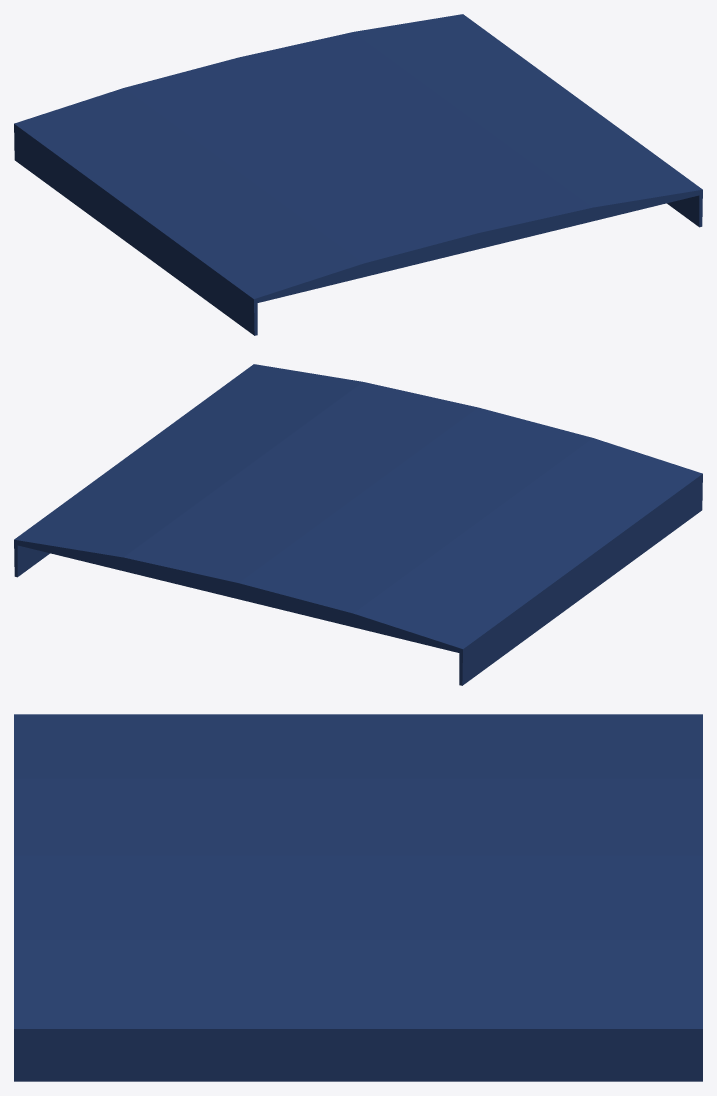
File: Itr_Bed_Double_Blanket_17.FBX
3 renders of one model, top to bottom at view 1: azimuth 30°, elevation 25°; view 2: azimuth 150°, elevation 25°; view 3: azimuth 270°, elevation 25°, orthographic. The views are drawn at different scales.
Parts seen in each view (by area): view 1: Itr_Bed_Double_Blanket_17; view 2: Itr_Bed_Double_Blanket_17; view 3: Itr_Bed_Double_Blanket_17.
Boxes of the visible parts, <box> form: Itr_Bed_Double_Blanket_17: <box>14,14,702,335</box>; Itr_Bed_Double_Blanket_17: <box>14,364,702,685</box>; Itr_Bed_Double_Blanket_17: <box>14,714,702,1081</box>.
Size of the model in its own units: 70.1 by 7.19 by 64.86.
